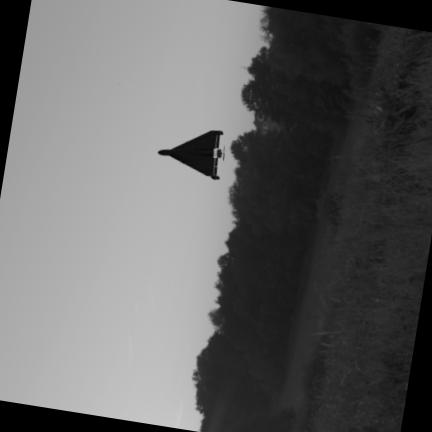Shahed: (158, 129, 223, 178)
